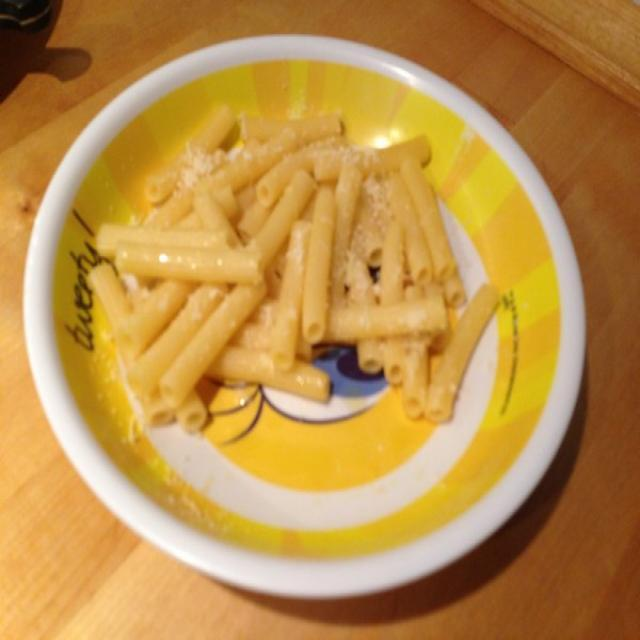Oil pasta: (113, 68, 546, 490)
